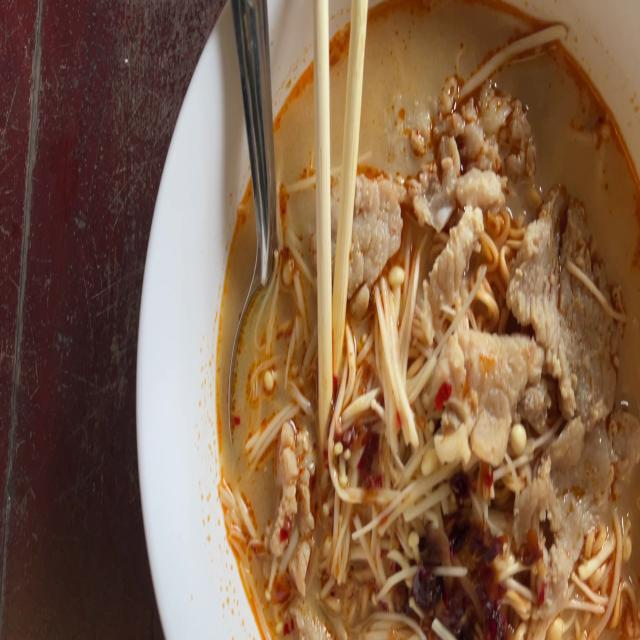noodle: (212, 0, 640, 640)
